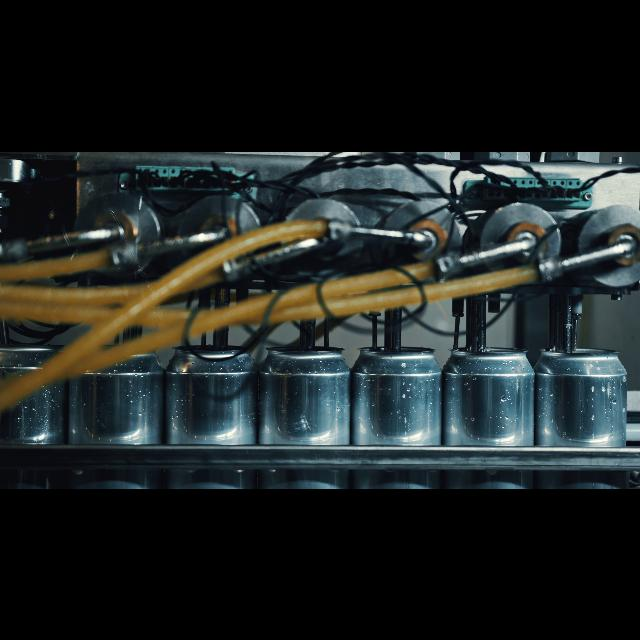empty: (347, 339, 445, 488), (166, 339, 260, 488), (260, 339, 352, 488), (534, 344, 628, 488), (75, 346, 165, 488), (450, 340, 532, 488), (0, 344, 72, 488)
